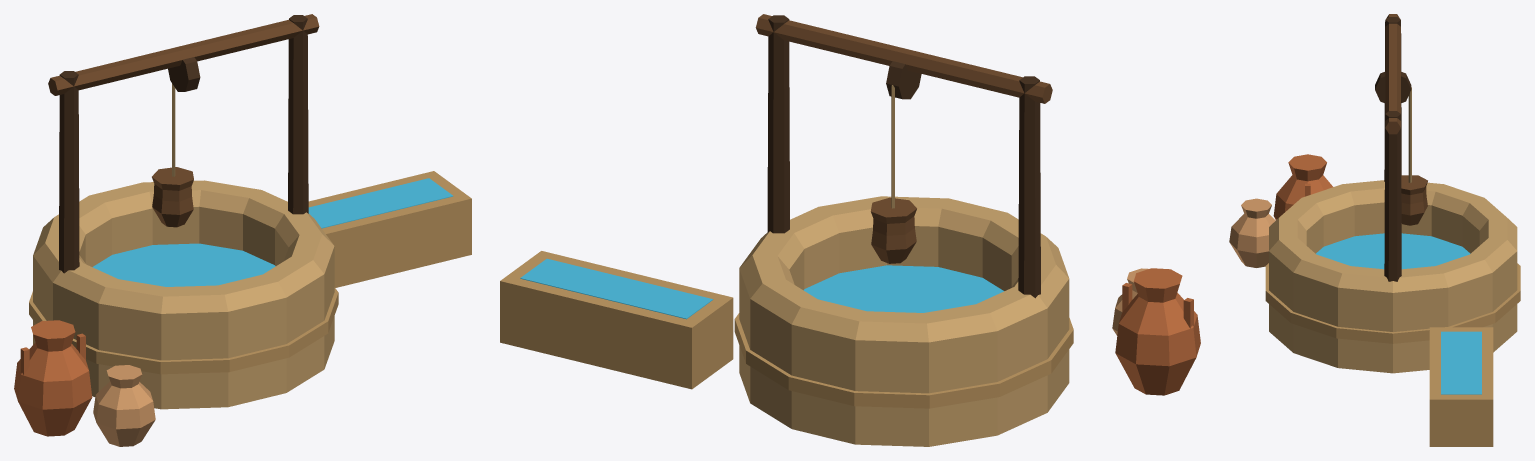
File: desert_well.glb
3 views of the same model, side by side, from view 1: azimuth 30°, elevation 25°; view 2: azimuth 150°, elevation 25°; view 3: azimuth 270°, elevation 25° (orthographic). The views are drawn at different scales.
Visible parts, largest first — view 1: desert_well; view 2: desert_well; view 3: desert_well.
Part boxes in pixels (x1=…): desert_well: x1=14, y1=14, x2=471, y2=446; desert_well: x1=500, y1=14, x2=1200, y2=446; desert_well: x1=1229, y1=14, x2=1520, y2=446.
Size of the model in its own units: 4.5 by 2.45 by 2.56.
